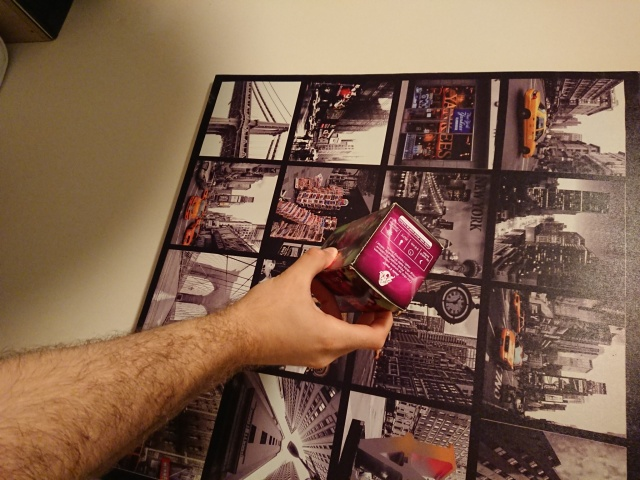Franck Black Currant Tea 60g: (304, 200, 445, 315)
